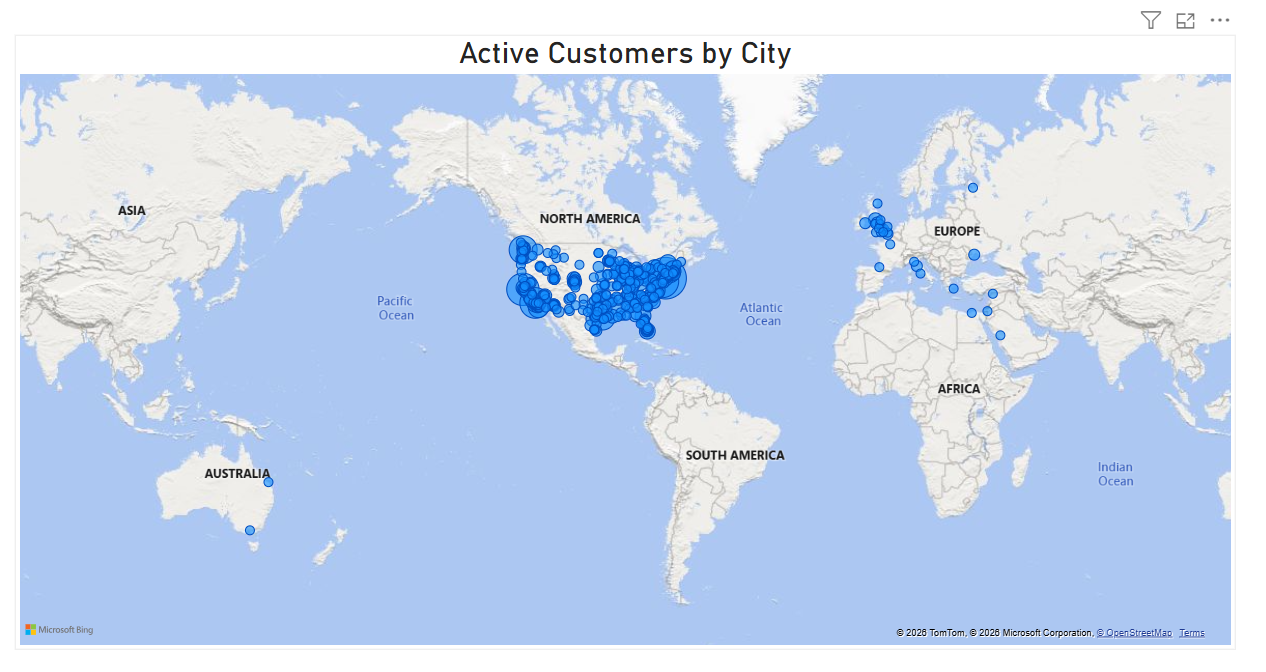

The page's visual inventory and layout, read from the dashboard file:
{"tool":"powerbi","page":{"name":"Map","canvas":[1280,720],"ordinal":1},"visuals":[{"type":"map","fields":{"Size":["Sales_NEWW.Active Customers"],"Category":["Sales_NEWW.City"]},"box":[51.9,56.7,1178.7,593.6],"z":0}]}

Visuals, with their boxes on the page's 1280x720 design canvas (x1, y1, x2, y2). These are canvas units, not pixel positions in the 1266x672 screenshot, which may show the page scaled, cropped or inside an application window:
map - Sales_NEWW.Active Customers x Sales_NEWW.City: x1=52 y1=57 x2=1231 y2=650
